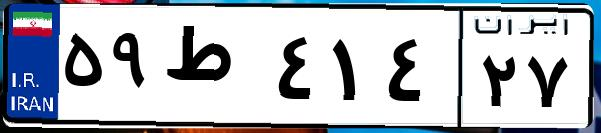1: (330, 28, 385, 110)
2: (475, 38, 525, 113)
4: (270, 28, 330, 110), (385, 28, 445, 110)
5: (57, 26, 110, 100)
7: (525, 38, 570, 115)
9: (110, 28, 158, 98)
ط: (158, 20, 270, 120)
